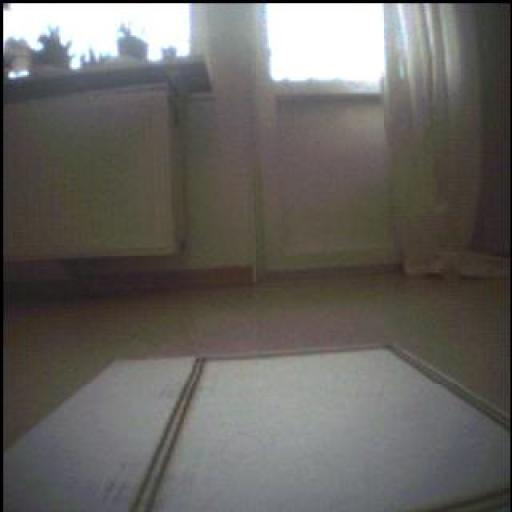Pad: (6, 348, 511, 512)
